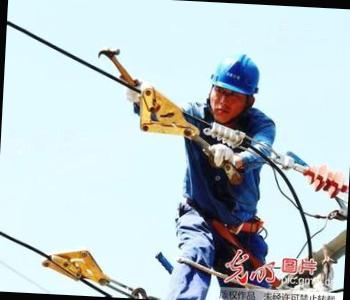person: (143, 49, 280, 300)
